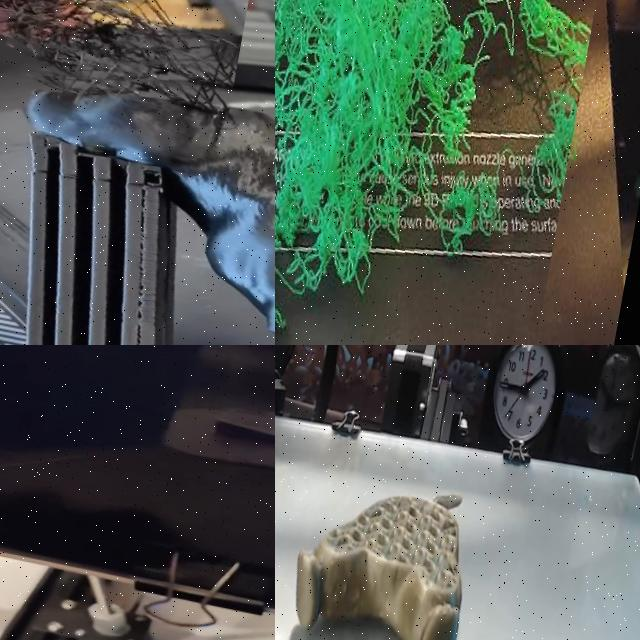spaghetti: (275, 0, 588, 304), (0, 0, 255, 116)
